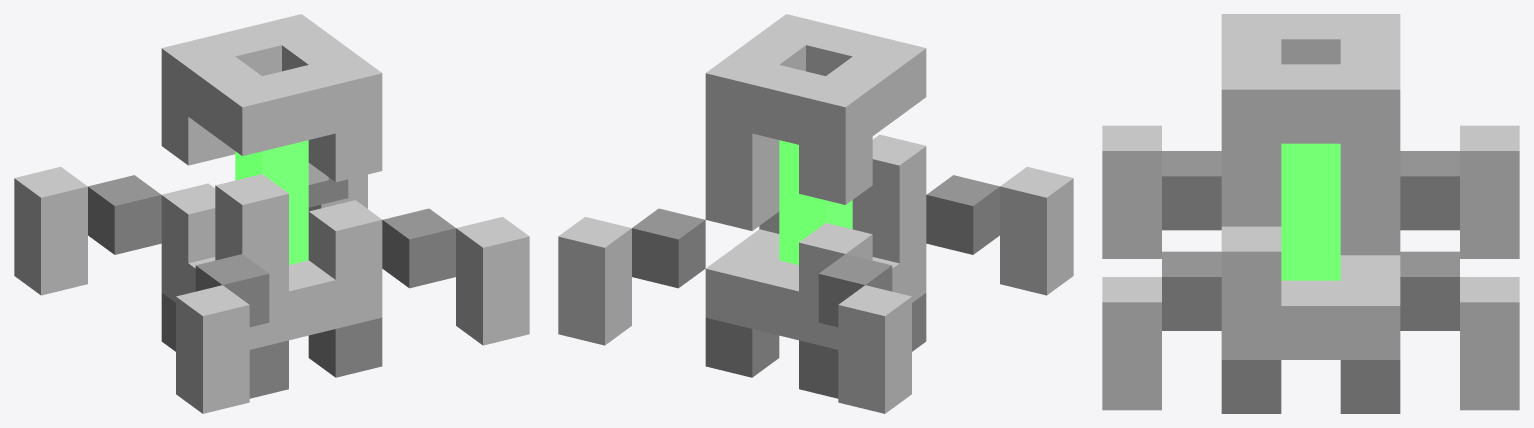
The model's file is monolith_drone.gltf.
The picture shows the model from 3 angles, left to right: view 1: azimuth 30°, elevation 25°; view 2: azimuth 150°, elevation 25°; view 3: azimuth 270°, elevation 25°; orthographic projection. The views are drawn at different scales.
Bounding box in the file's own units: 7 × 6 × 7.
